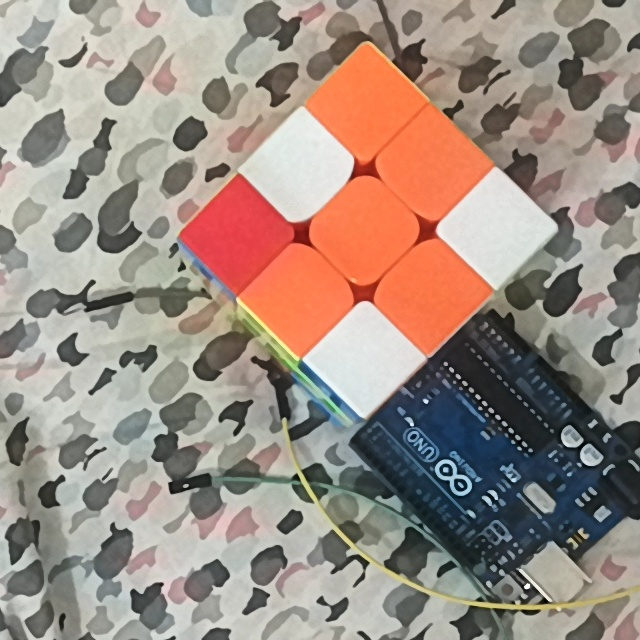tile: (398, 263, 462, 323), (334, 198, 395, 260), (335, 72, 393, 136), (272, 139, 329, 200), (402, 133, 460, 192), (211, 202, 266, 263), (274, 268, 331, 325), (467, 197, 521, 257), (335, 330, 394, 384)
